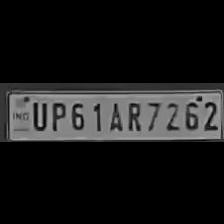1: (89, 98, 105, 132)
2: (200, 97, 218, 130), (161, 98, 179, 130)
6: (67, 98, 87, 130), (181, 97, 199, 130)
7: (144, 97, 160, 131)
A: (104, 98, 124, 132)
P: (48, 98, 66, 130)
R: (123, 98, 143, 132)
U: (28, 97, 48, 130)
